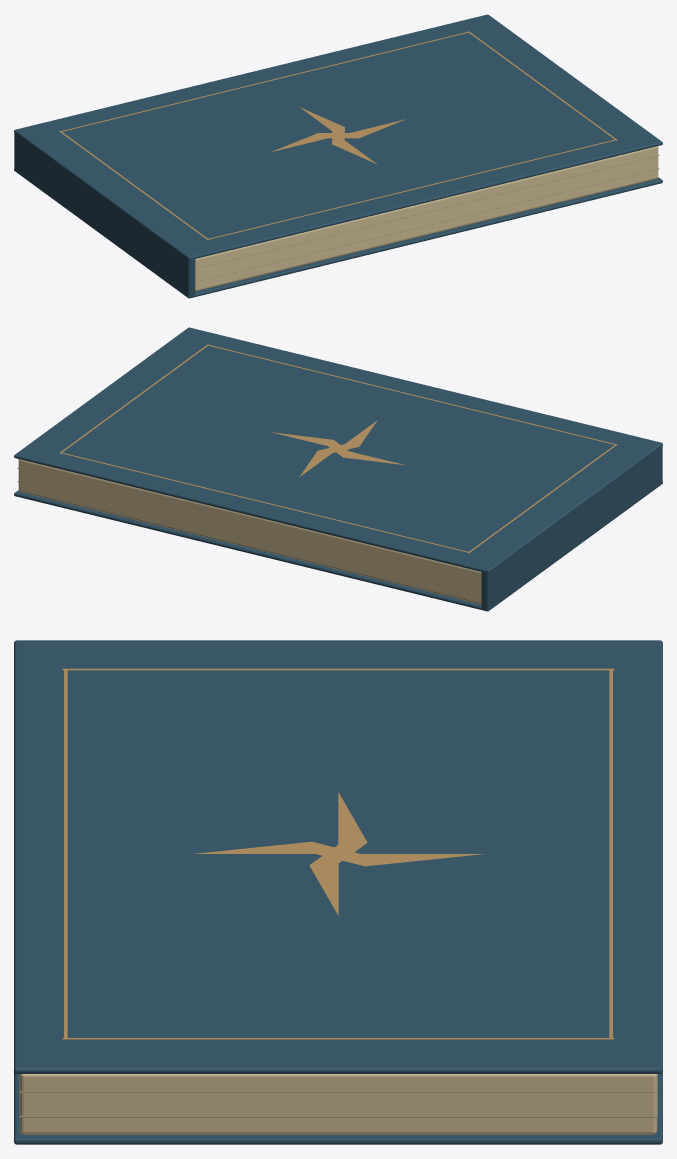
Rendered from atlas.glb.
The picture shows the model from 3 angles, top to bottom: view 1: azimuth 30°, elevation 25°; view 2: azimuth 150°, elevation 25°; view 3: azimuth 270°, elevation 25°; orthographic projection. The views are drawn at different scales.
Visible parts, largest first — view 1: atlas; view 2: atlas; view 3: atlas.
Boxes of the visible parts, x1,y1,x2,y2 form: atlas: (14,14,662,298); atlas: (14,327,662,611); atlas: (14,640,662,1144).
Bounding box in the file's own units: 0.18 × 0.015 × 0.115.
